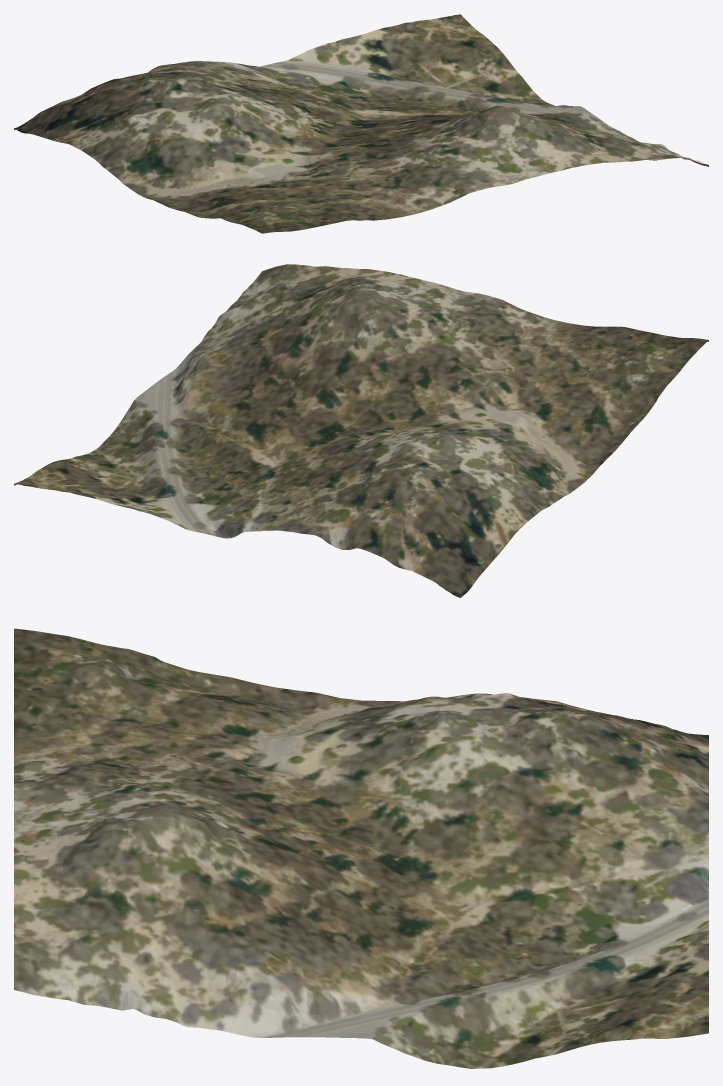
3 views of the same model, one above another, from view 1: azimuth 30°, elevation 25°; view 2: azimuth 150°, elevation 25°; view 3: azimuth 270°, elevation 25° (orthographic). The views are drawn at different scales.
Bounding box in the file's own units: 250 × 59.31 × 241.
Materials: 1 (1 with a texture image).
